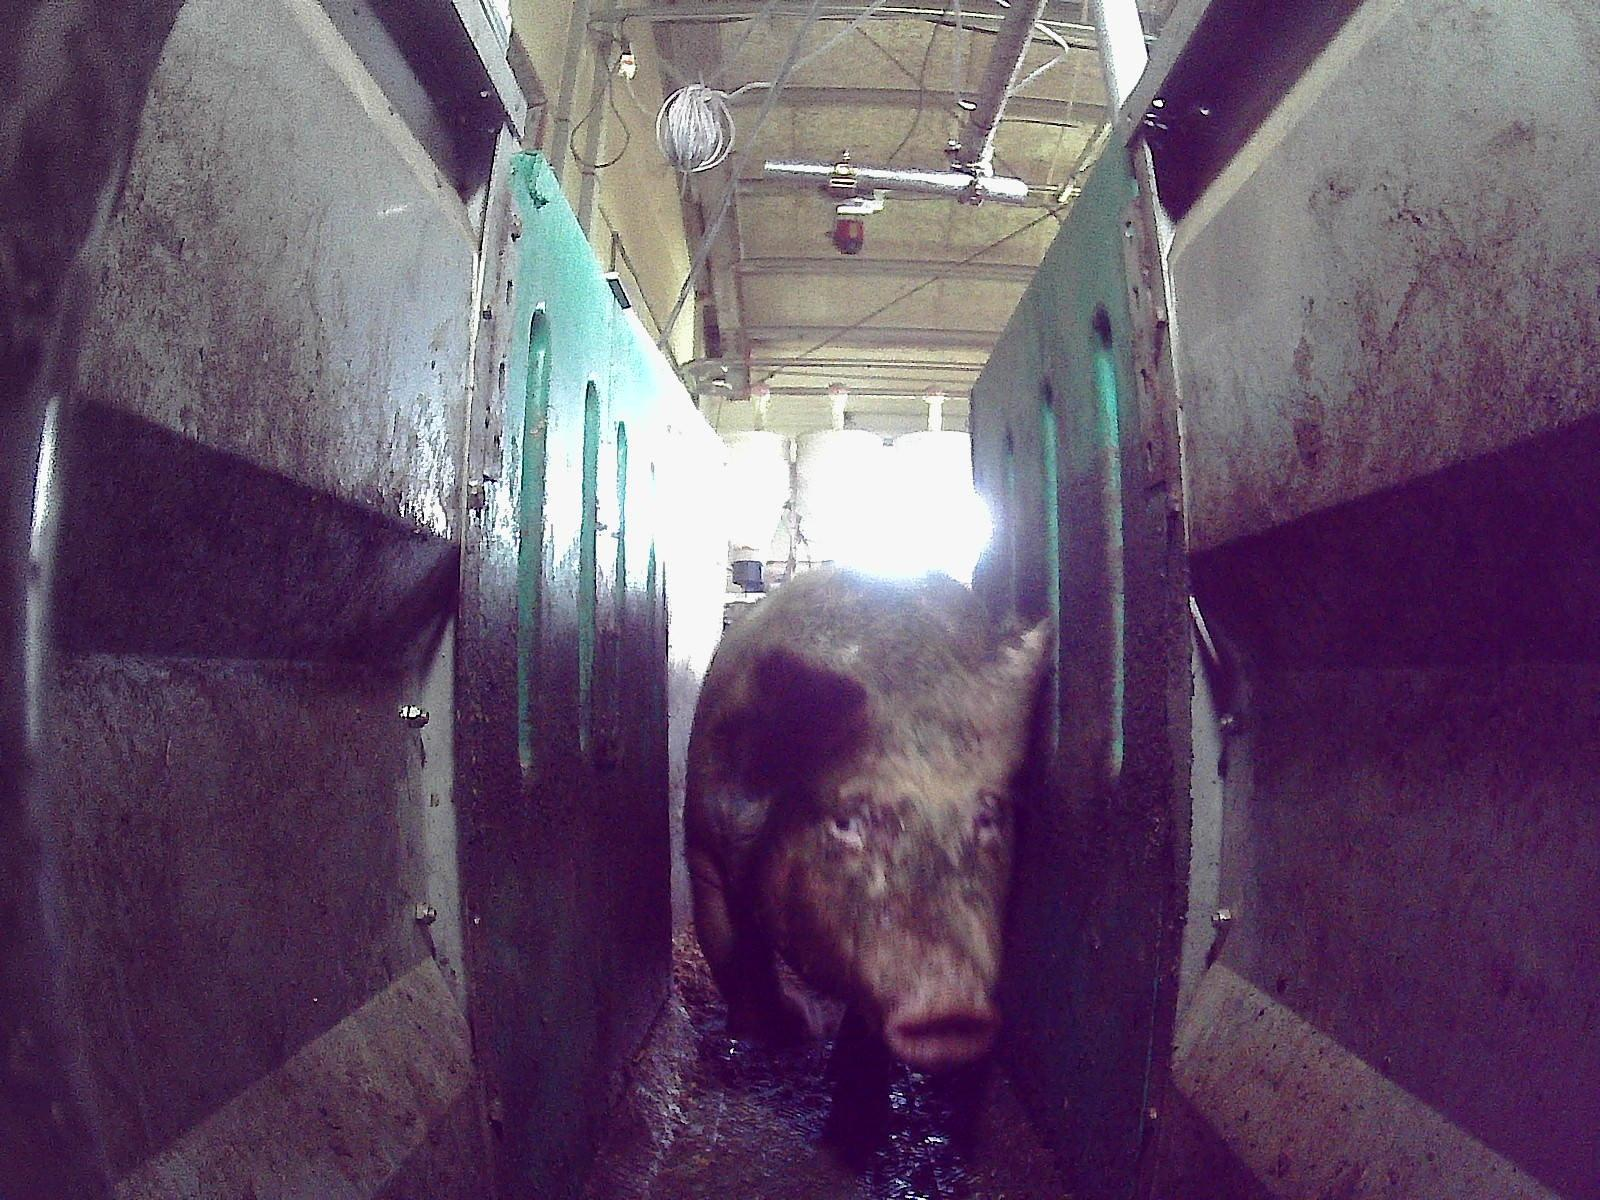Face: (789, 727, 1032, 1074)
